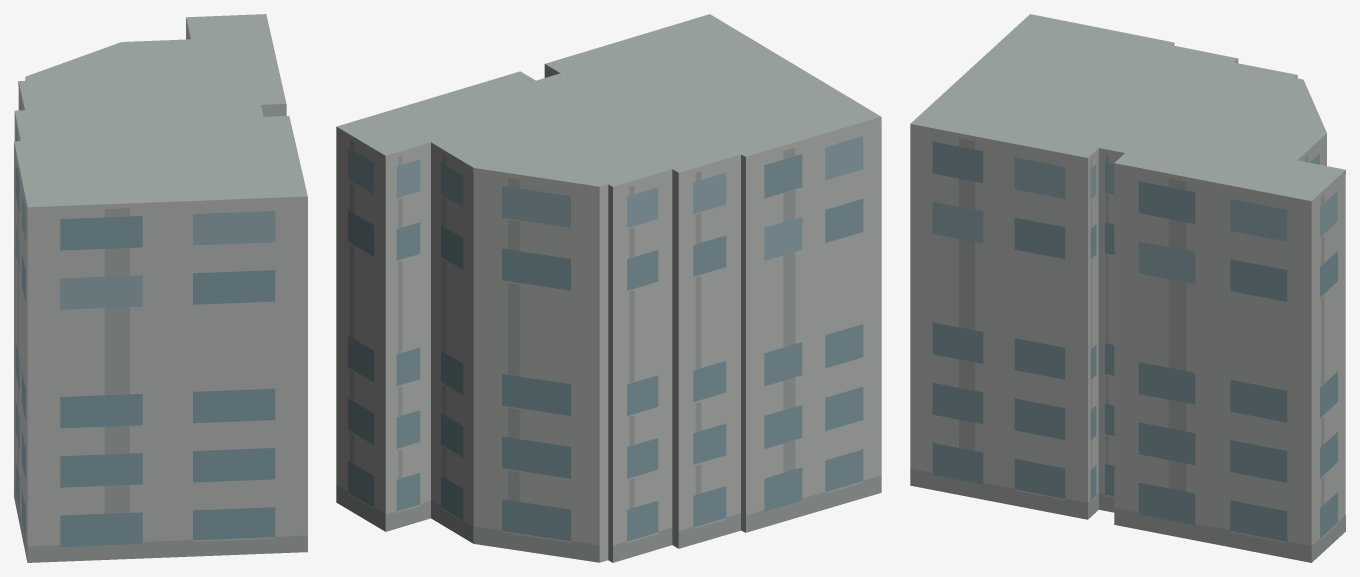
File: survey-upis-32905795.glb
3 renders of one model, left to right at view 1: azimuth 30°, elevation 25°; view 2: azimuth 150°, elevation 25°; view 3: azimuth 270°, elevation 25°, orthographic. The views are drawn at different scales.
Visible parts, largest first — view 1: survey-upis-32905795.tmp; view 2: survey-upis-32905795.tmp; view 3: survey-upis-32905795.tmp.
Part boxes in pixels (<box>): survey-upis-32905795.tmp: <box>14,14,307,562</box>; survey-upis-32905795.tmp: <box>336,14,881,562</box>; survey-upis-32905795.tmp: <box>910,14,1345,562</box>.
Bounding box in the file's own units: 20.32 × 18.3 × 19.98.
